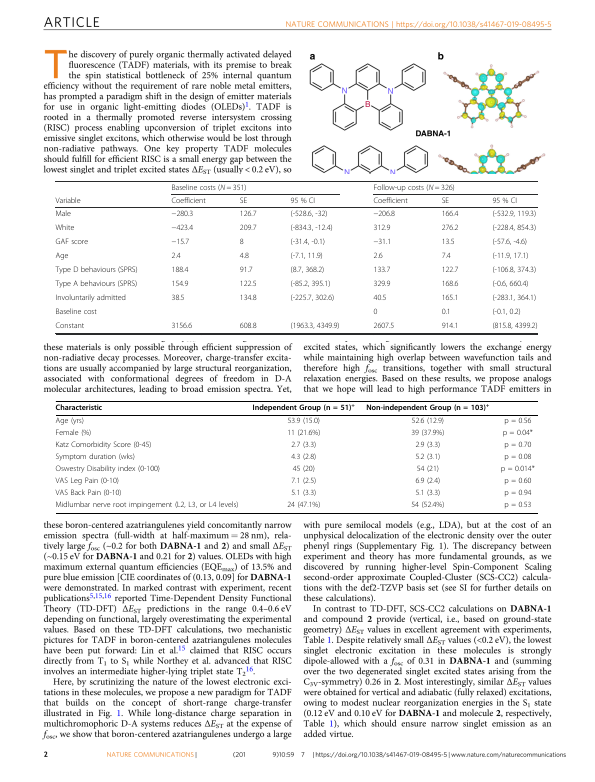borderless: (54, 179, 537, 333), (54, 400, 538, 513)
cell: (55, 501, 239, 510), (365, 402, 490, 413), (252, 402, 356, 413), (55, 465, 161, 475), (55, 441, 152, 451), (54, 265, 138, 275), (54, 279, 138, 289), (55, 453, 136, 463), (372, 183, 456, 192), (54, 293, 127, 303), (171, 183, 247, 192), (55, 489, 122, 498), (55, 477, 120, 486), (290, 321, 340, 331), (491, 321, 538, 331), (491, 209, 537, 219), (491, 223, 537, 233), (491, 265, 537, 275), (491, 293, 537, 303), (290, 293, 335, 303), (54, 307, 98, 317), (55, 404, 103, 413), (290, 223, 333, 233), (290, 279, 331, 289), (290, 209, 328, 219), (491, 251, 529, 261), (491, 279, 529, 289), (55, 429, 92, 439), (372, 196, 409, 206), (491, 237, 528, 247), (500, 465, 536, 475), (171, 196, 207, 206), (290, 237, 326, 247), (286, 417, 321, 427), (286, 429, 321, 439), (410, 429, 445, 439), (54, 237, 89, 247), (290, 265, 325, 275), (411, 417, 445, 427), (290, 251, 324, 261), (502, 429, 534, 439), (286, 501, 321, 510), (410, 501, 445, 510), (491, 307, 522, 317), (54, 321, 85, 331), (55, 417, 85, 427), (503, 417, 532, 427), (503, 441, 532, 451), (503, 453, 532, 463), (290, 441, 317, 451), (414, 441, 441, 451), (290, 453, 317, 463), (414, 453, 441, 463), (54, 196, 81, 206), (491, 196, 518, 206), (503, 477, 532, 486), (503, 489, 532, 498), (503, 501, 532, 510), (290, 196, 316, 206), (290, 477, 317, 486), (414, 477, 441, 486), (290, 489, 317, 498), (414, 489, 441, 498), (292, 465, 316, 475), (416, 465, 440, 475), (372, 209, 396, 219), (171, 209, 194, 219), (171, 223, 194, 233), (372, 321, 395, 331), (171, 321, 193, 331), (54, 223, 75, 233), (372, 237, 392, 247), (372, 223, 391, 233), (171, 237, 190, 247), (372, 265, 391, 275), (372, 279, 391, 289), (54, 209, 72, 219), (239, 209, 257, 219), (441, 209, 459, 219), (239, 223, 257, 233), (441, 223, 459, 233), (171, 265, 189, 275), (441, 265, 459, 275), (171, 279, 189, 289), (239, 279, 257, 289), (441, 279, 459, 289), (239, 293, 257, 303), (441, 293, 459, 303), (239, 321, 257, 331), (441, 321, 459, 331), (54, 251, 69, 261), (239, 265, 254, 275), (372, 293, 387, 303), (441, 237, 455, 247), (171, 293, 185, 303), (171, 251, 182, 261), (239, 251, 250, 261), (372, 251, 383, 261), (441, 251, 452, 261), (441, 307, 452, 317), (239, 196, 248, 206), (441, 196, 450, 206), (239, 237, 245, 247), (372, 307, 378, 317)
